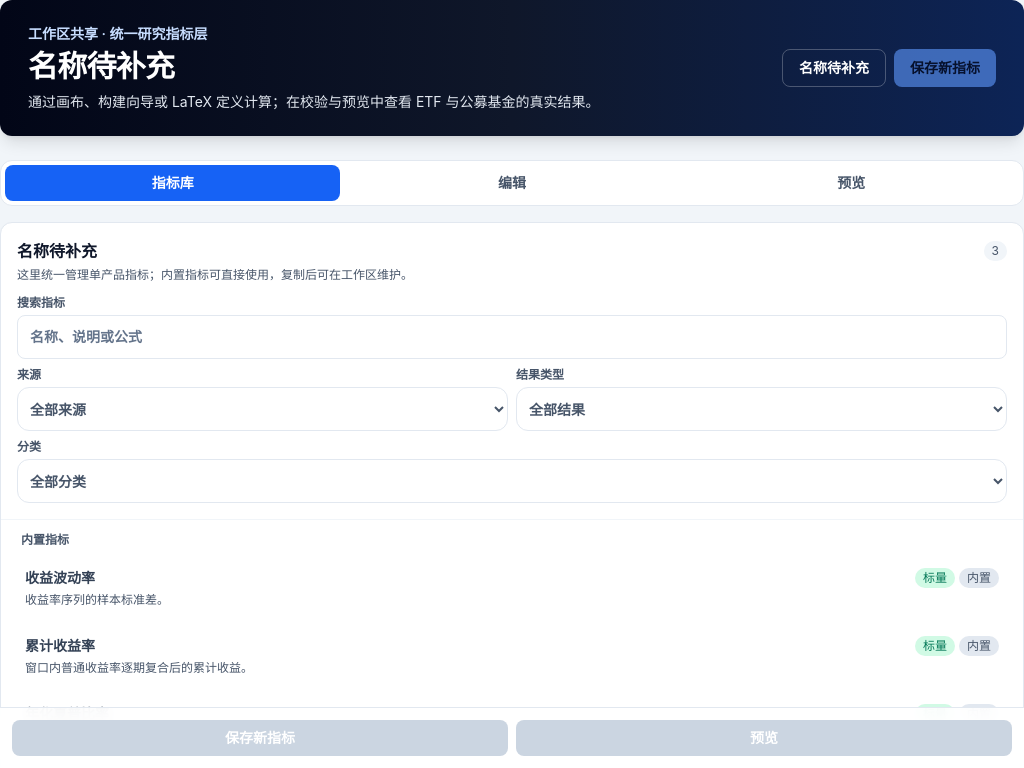
Scenario: IndicatorStudio › 指标库支持按关键词、来源和分类筛选
Expected: the button "收益波动率 标量 内置 收益率序列的样本标准差。" is shown, [13,556,1011,620]
Type "不存在的指标" into the search field labelled "搜索指标". click: (512, 337)
box: [17,315,1007,359]
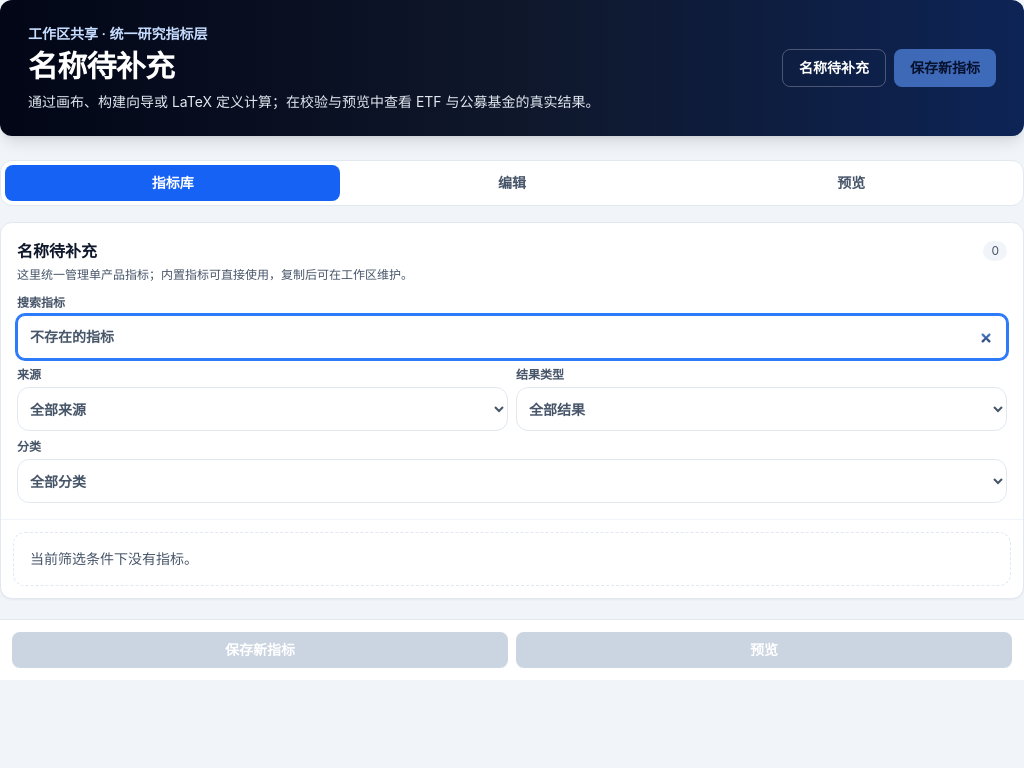
Result: the button "收益波动率" is gone
Clear the search field labelled "搜索指标". click: (512, 337)
box: [17,315,1007,359]
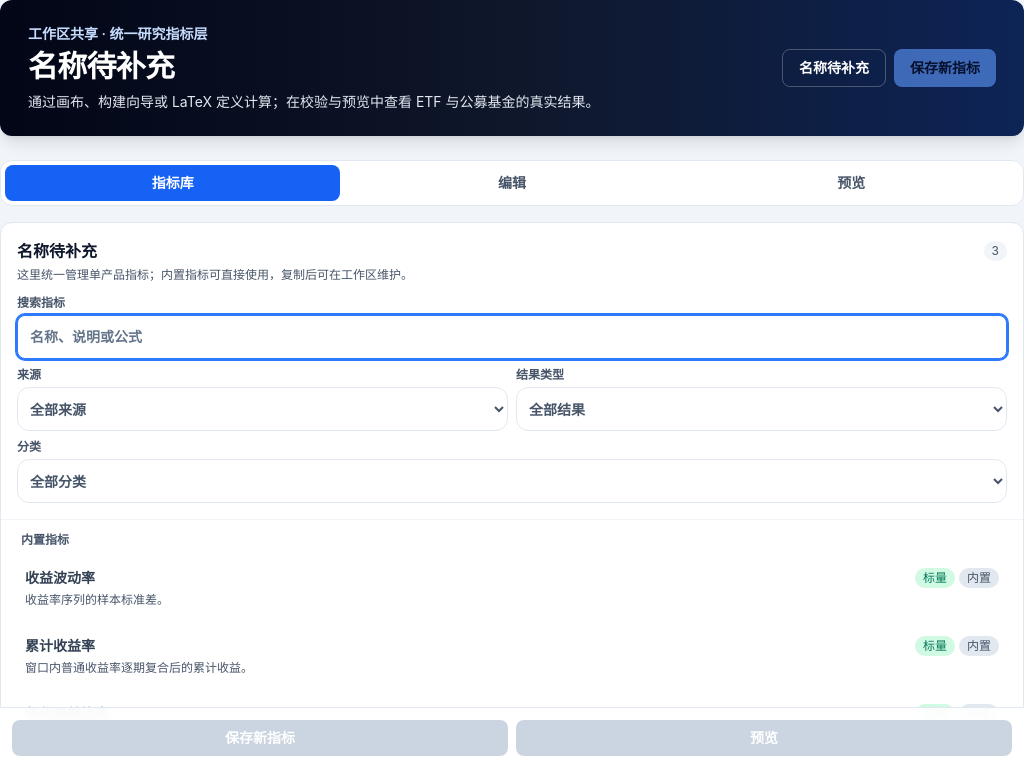
Select "风险型指标" in the dropdown named "指标分类". click: (512, 481)
box: [17,459,1007,503]
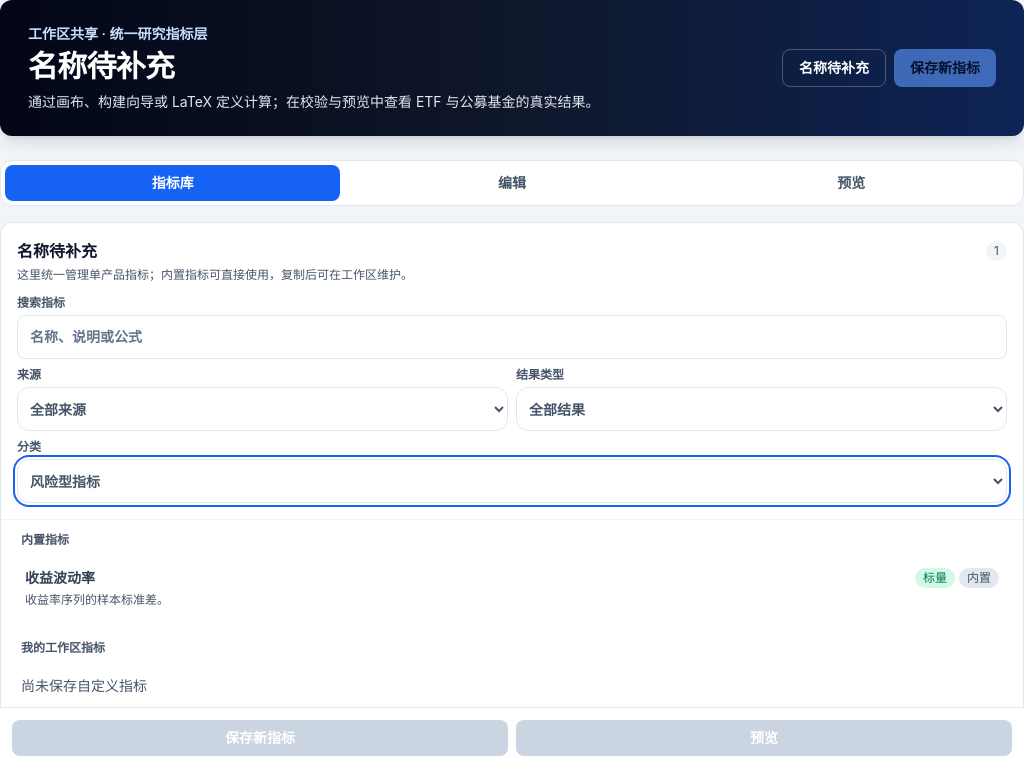
Result: the button "收益波动率 标量 内置 收益率序列的样本标准差。" is shown at [13,556,1011,620]
Select "工作区指标" in the dropdown named "指标来源". click: (262, 409)
box: [17,387,508,431]
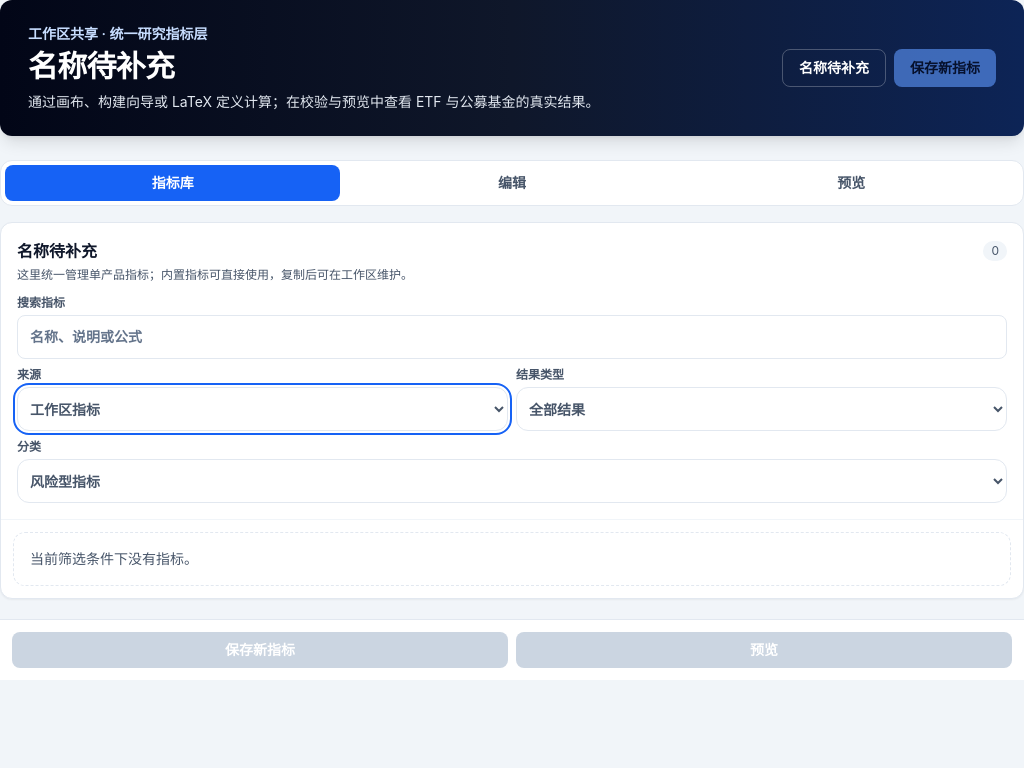
Result: the text "当前筛选条件下没有指标。" is shown at [13,532,1011,586]
